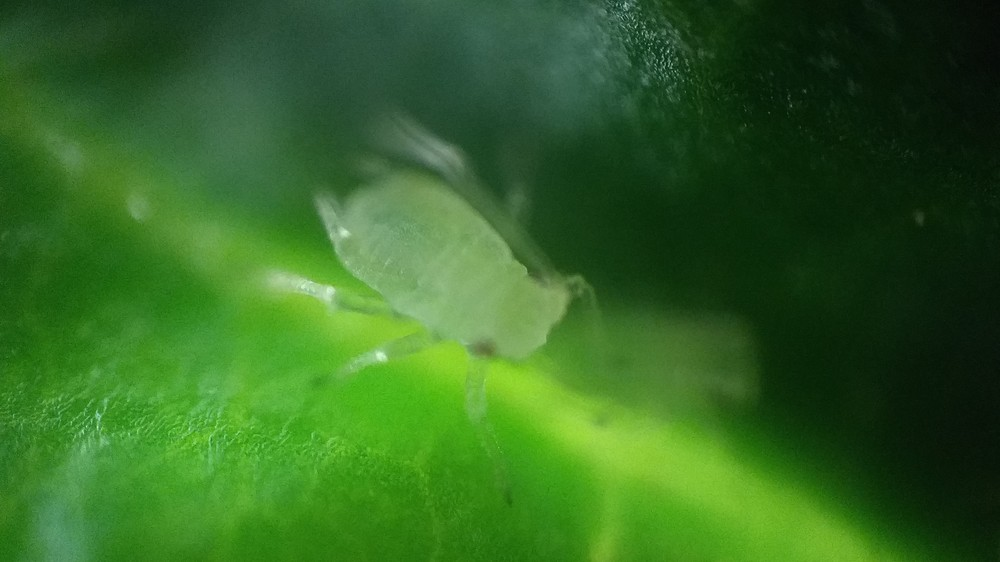Pulgon: (254, 107, 662, 468)
